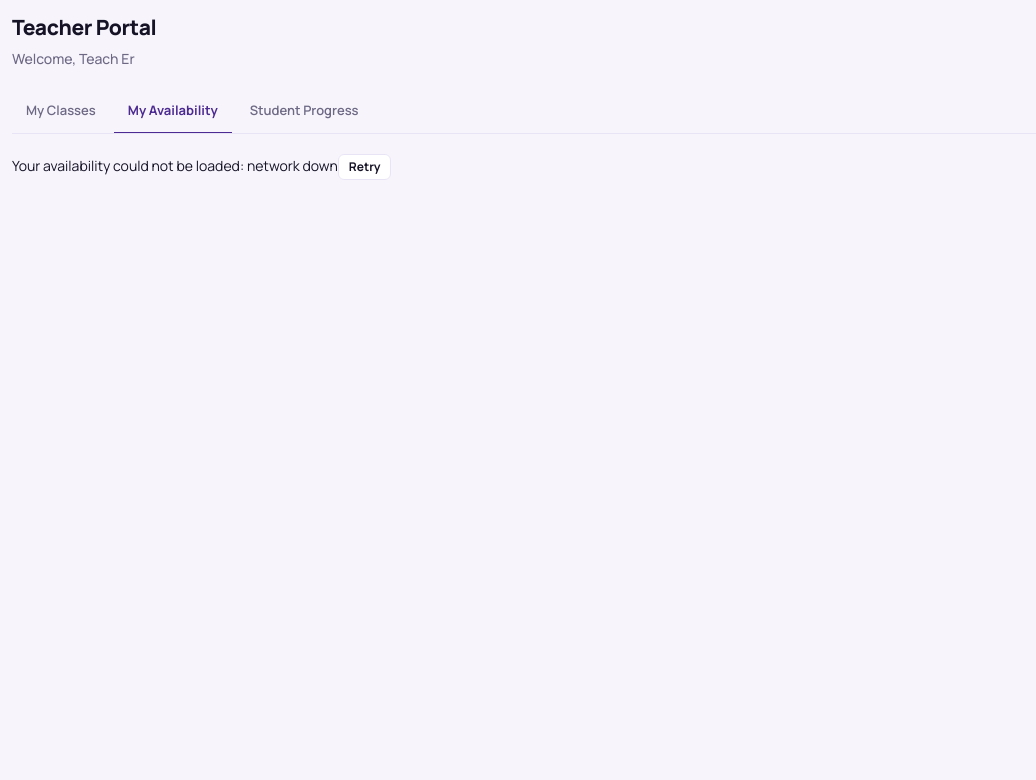
Test: Teacher availability states › Retry re-reads availability and shows the empty state once the read succeeds
Click the button "Retry": (365, 167) [338,154,392,180]
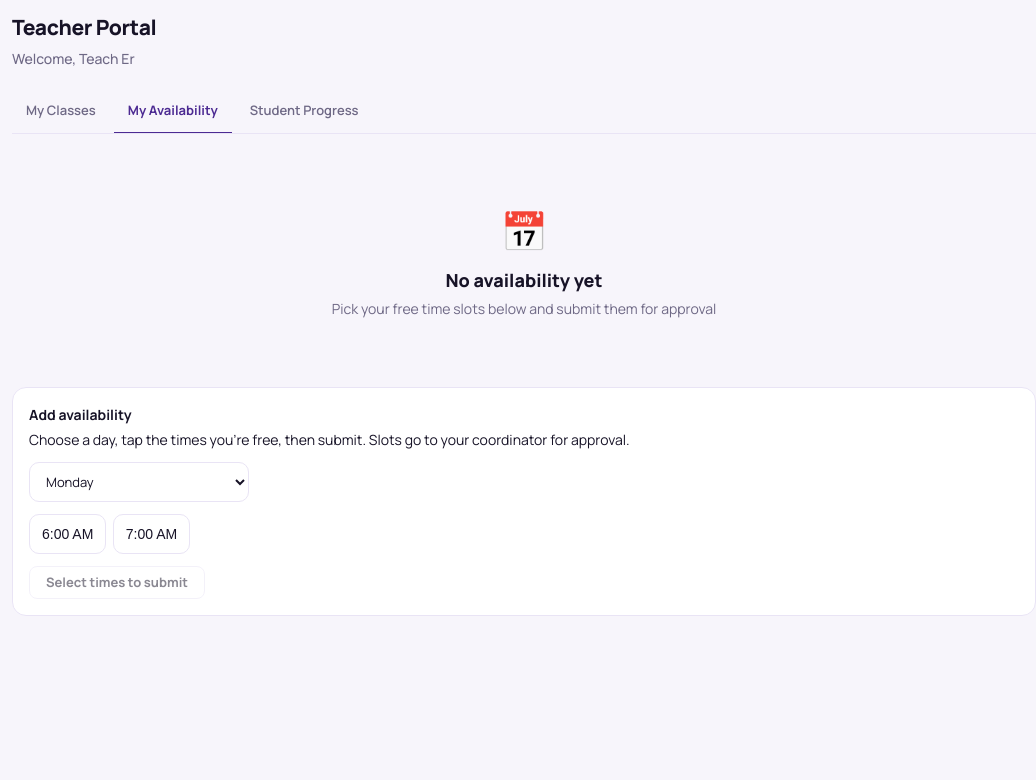
Now the text "No availability yet" is shown, box [445,268,602,292]
Now the text "could not be loaded" is gone
